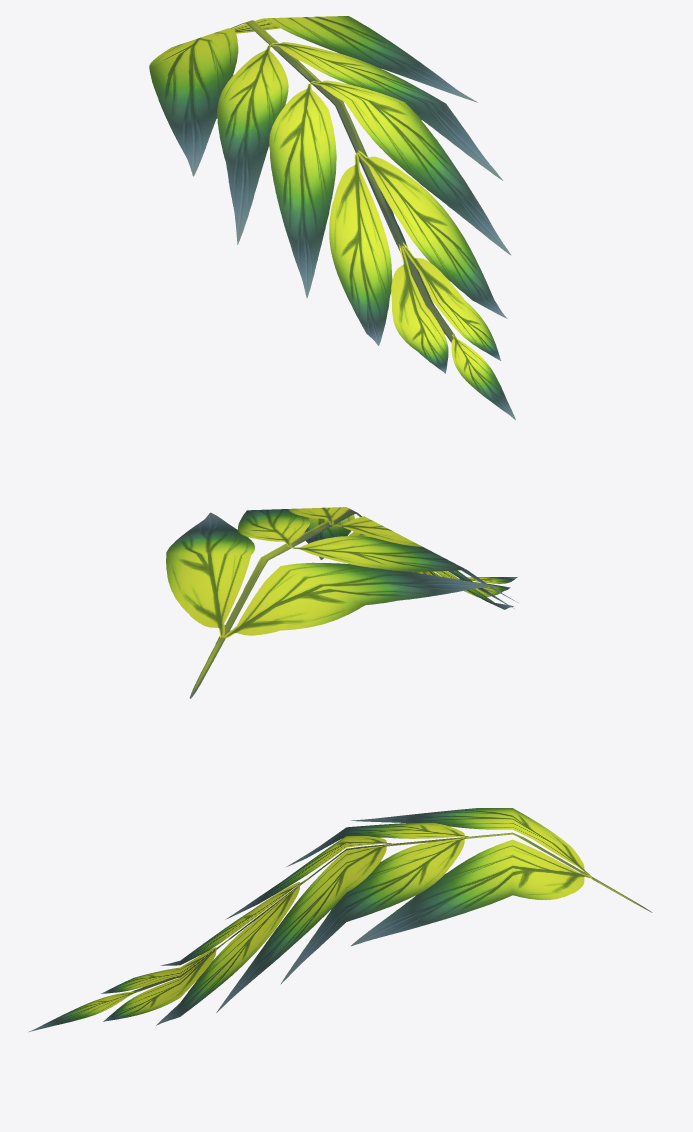
Rendered from fernleafsingle.fbx.
The picture shows the model from 3 angles, top to bottom: view 1: azimuth 30°, elevation 25°; view 2: azimuth 150°, elevation 25°; view 3: azimuth 270°, elevation 25°; orthographic projection. The views are drawn at different scales.
Parts seen in each view (by area): view 1: pPlane46; view 2: pPlane46; view 3: pPlane46.
Boxes of the visible parts, bbox=[...] form: pPlane46: bbox=[149, 16, 515, 419]; pPlane46: bbox=[166, 507, 517, 698]; pPlane46: bbox=[28, 808, 652, 1032].
Size of the model in its own units: 14.13 by 9.94 by 28.26.
1 material, 1 textured.
